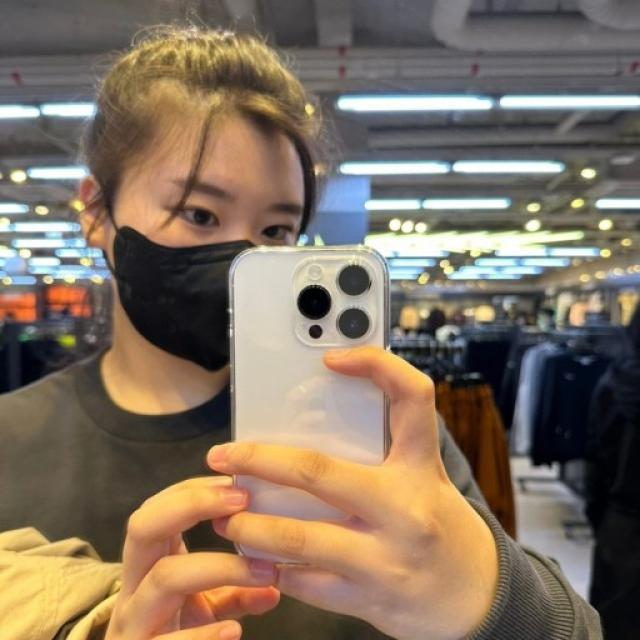phone: (228, 245, 388, 566)
